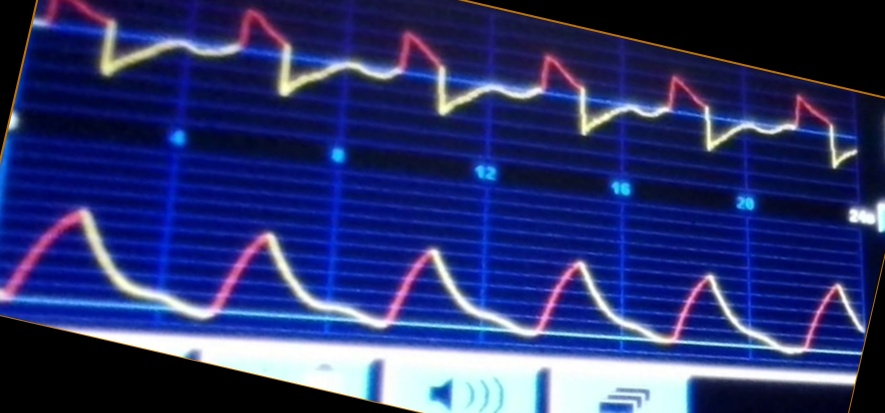Ineffective_effort Flow: (38, 3, 858, 168)
Ineffective_effort Volume: (1, 203, 861, 358)
